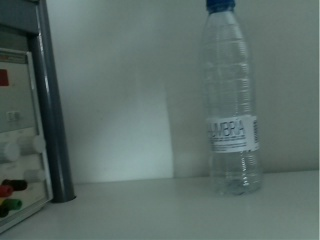botella plastico: (194, 1, 265, 191)
